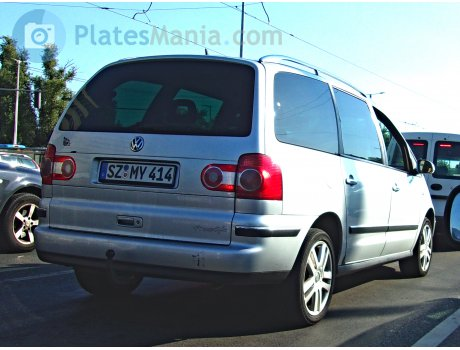License Plates: (108, 158, 173, 180)
